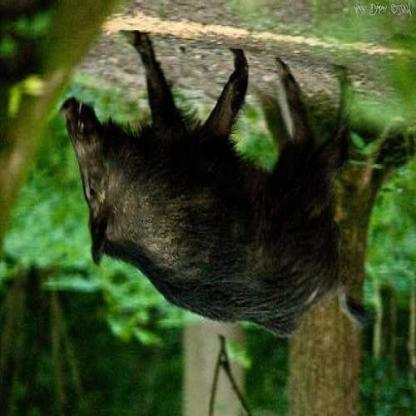boar: (56, 48, 409, 339)
